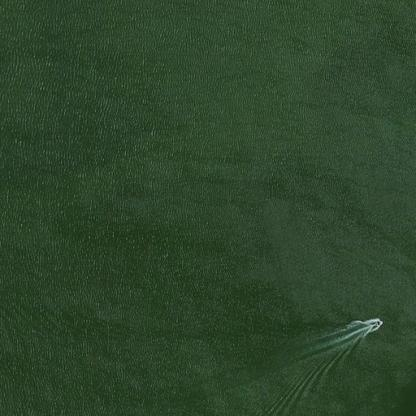ship: (354, 314, 388, 332)
